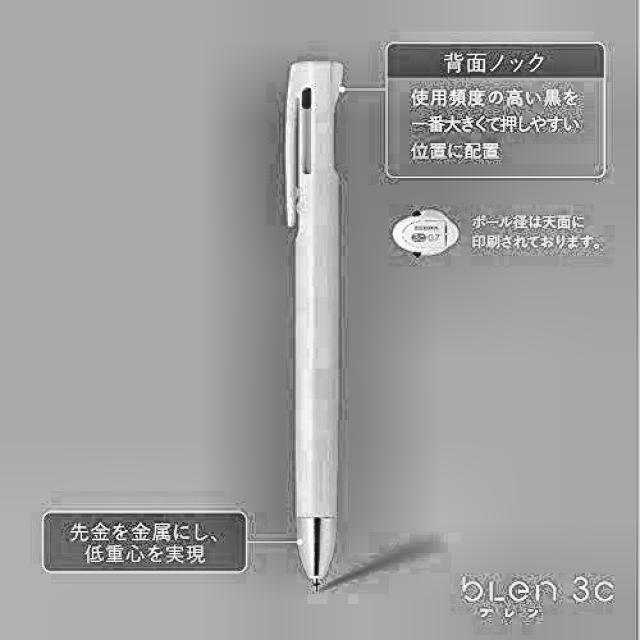Pen: (285, 61, 344, 591)
